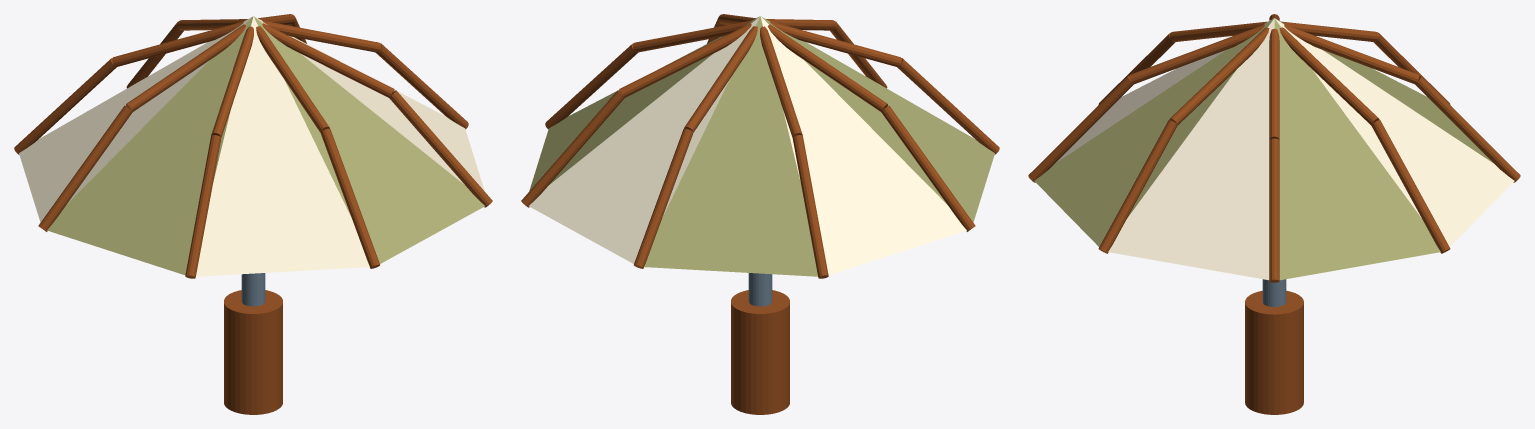
Rendered from foldumbrella.glb.
3 renders of one model, left to right at view 1: azimuth 30°, elevation 25°; view 2: azimuth 150°, elevation 25°; view 3: azimuth 270°, elevation 25°, orthographic.
Parts seen in each view (by area): view 1: panel2, panel3, panel1, panel4, handle, panel0, rib21, rib41, rib31, rib11, rib10, rib40 (+9 smaller); view 2: panel5, panel4, panel6, panel3, handle, panel7, rib61, rib41, rib51, rib71, rib70, rib40 (+9 smaller); view 3: panel0, panel7, panel1, panel6, handle, panel2, panel5, rib11, rib71, rib01, rib20, rib60 (+10 smaller).
Boxes of the visible parts, x1,y1,x2,y2 form: panel2: (196,16,369,276); panel3: (47,16,253,274); panel1: (254,17,484,263); panel4: (19,16,252,222); handle: (224,290,282,414); panel0: (254,16,484,190); rib21: (320,128,379,268); rib41: (38,105,132,231); rib31: (185,135,221,278); rib11: (389,90,492,207); rib10: (262,23,394,97); rib40: (126,24,246,111); panel5: (644,16,817,276); panel4: (760,16,966,274); panel6: (529,17,759,263); panel3: (761,16,994,222); handle: (731,290,789,414); panel7: (529,16,759,190); rib61: (634,128,693,268); rib41: (881,105,975,231); rib51: (792,135,828,278); rib71: (521,90,624,207); rib70: (619,23,751,97); rib40: (767,24,887,111); panel0: (1108,18,1274,280); panel7: (1274,19,1440,280); panel1: (1034,18,1273,246); panel6: (1275,18,1514,246); handle: (1245,290,1303,414); panel2: (1055,18,1273,163); panel5: (1275,18,1493,163); rib11: (1098,120,1177,253); rib71: (1371,120,1450,253); rib01: (1269,138,1279,282); rib20: (1129,24,1264,84); rib60: (1284,24,1419,84).
Bounding box in the file's own units: 1.67 × 1.44 × 1.67.
